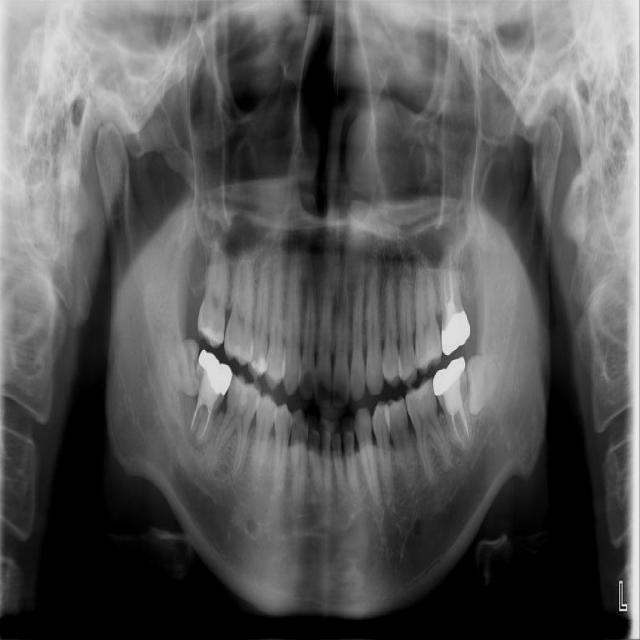Crown: (198, 350, 232, 397), (442, 312, 470, 355), (434, 358, 467, 394)
Filling: (235, 377, 254, 406), (202, 327, 224, 344), (252, 355, 267, 373)
Root Canal Treatment: (189, 401, 199, 430), (199, 408, 208, 438), (442, 269, 448, 302), (462, 411, 469, 435), (459, 436, 464, 447), (454, 416, 457, 433), (451, 274, 453, 296), (449, 256, 451, 274)
impacted tooth: (143, 338, 199, 398), (466, 352, 511, 415)
